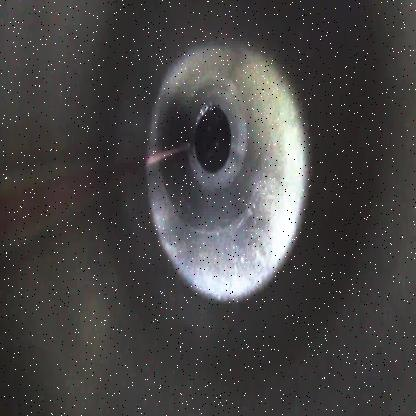NoCrack: (145, 40, 307, 303)
